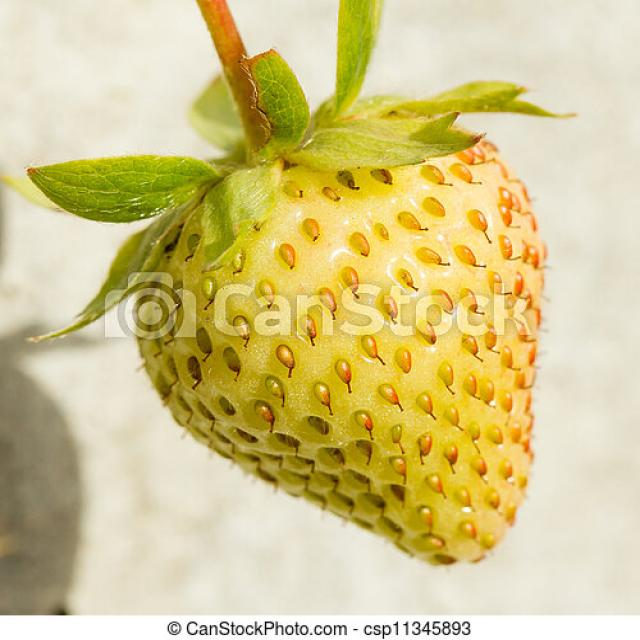immature: (137, 120, 546, 565)
